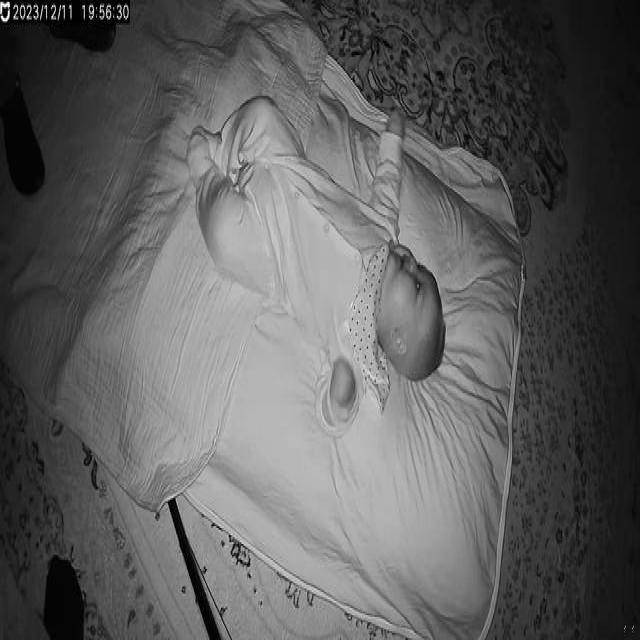baby: (183, 104, 450, 438)
